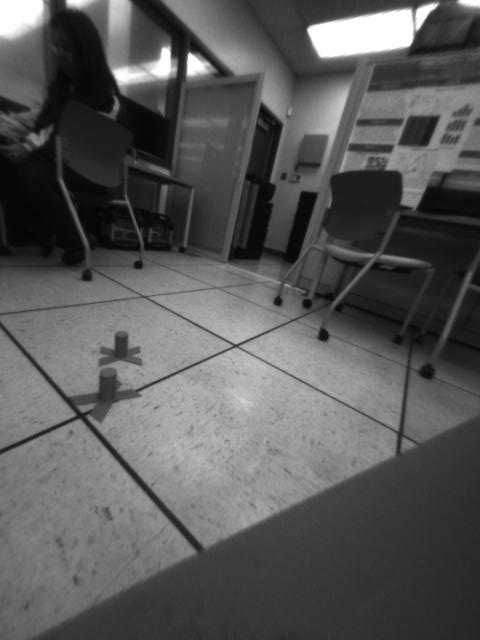X: (65, 368, 144, 422), (96, 330, 146, 371)
